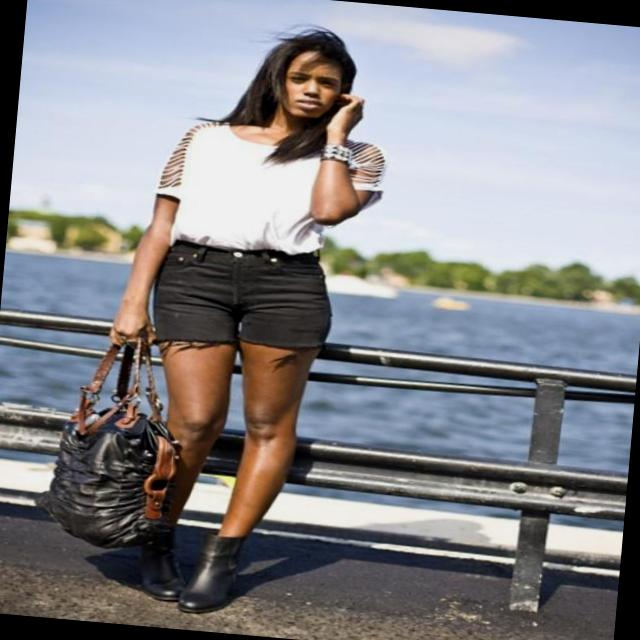Tshirt: (152, 115, 392, 264)
short: (147, 238, 336, 358)
